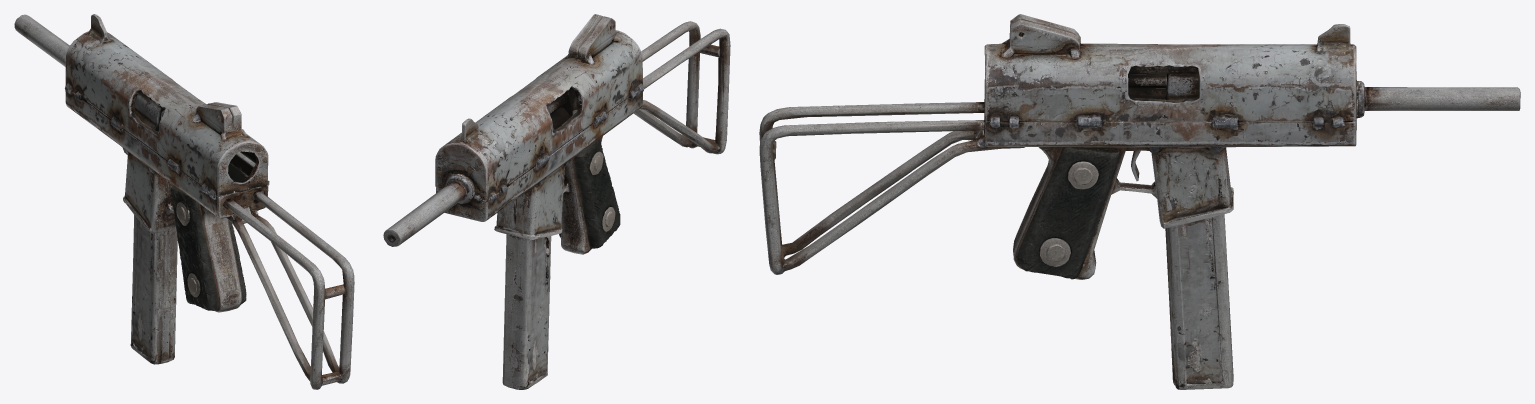
Rendered from scrap.glb.
3 views of the same model, side by side, from view 1: azimuth 30°, elevation 25°; view 2: azimuth 150°, elevation 25°; view 3: azimuth 270°, elevation 25° (orthographic). The views are drawn at different scales.
Parts seen in each view (by area): view 1: body, mag; view 2: body, mag; view 3: body, mag.
Boxes of the visible parts, x1,y1,x2,y2 form: body: [14, 14, 354, 389]; mag: [125, 202, 177, 364]; body: [383, 14, 730, 254]; mag: [502, 216, 562, 389]; body: [759, 14, 1520, 279]; mag: [1159, 212, 1233, 389].
Size of the model in its own units: 0.0581 by 0.2918 by 0.5498.
Materials: 1 (1 with a texture image).
